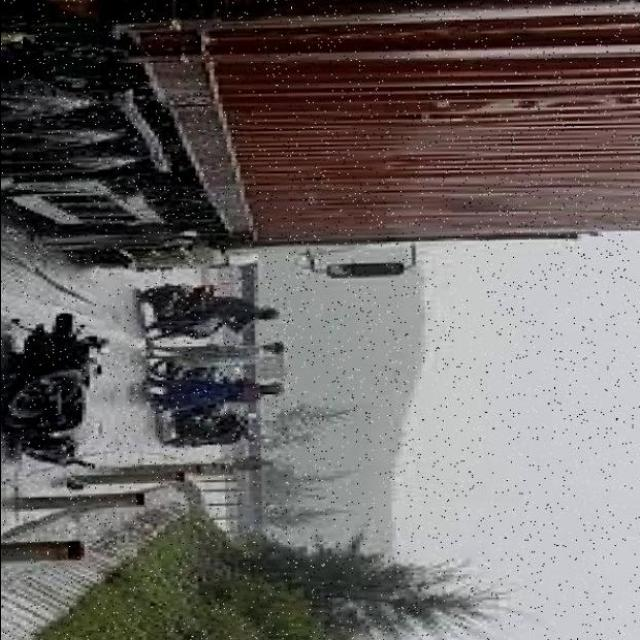accident: (1, 295, 131, 479)
